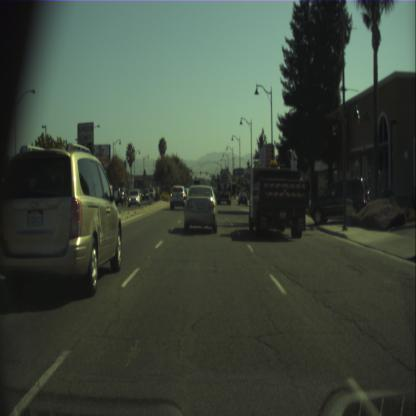Red: (192, 170, 194, 173)
off: (206, 171, 208, 176), (199, 171, 201, 174)
